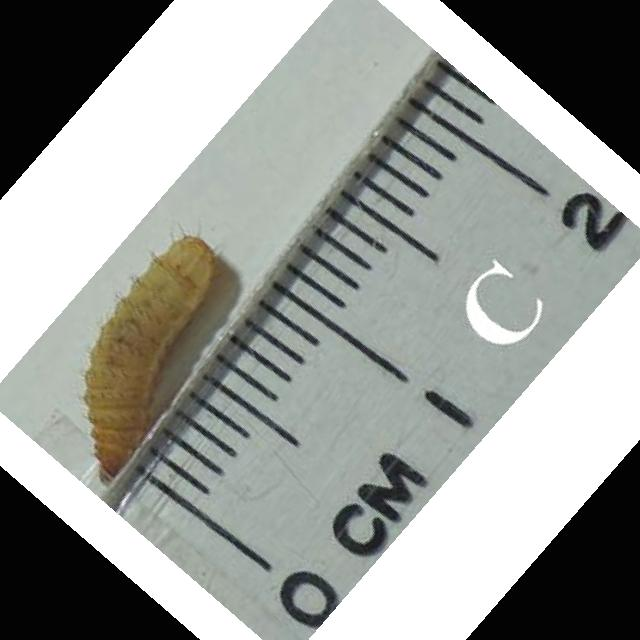Maggot: (81, 228, 221, 492)
